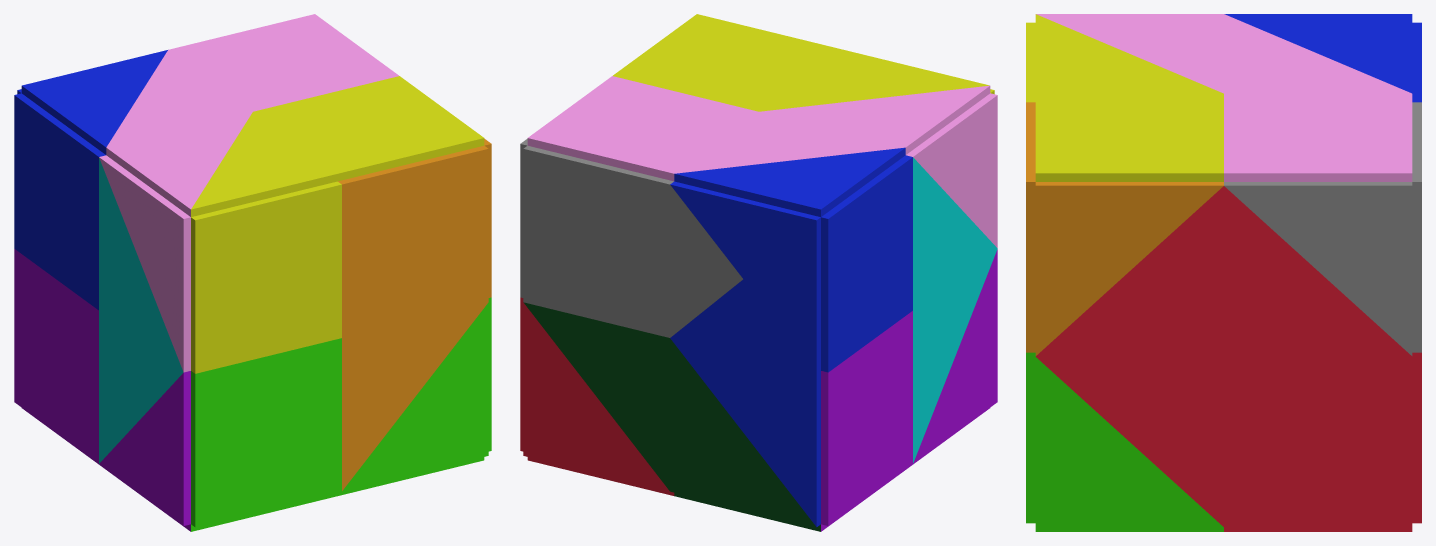
File: TamGram4.fbx
The picture shows the model from 3 angles, left to right: view 1: azimuth 30°, elevation 25°; view 2: azimuth 150°, elevation 25°; view 3: azimuth 270°, elevation 25°; orthographic projection. The views are drawn at different scales.
Visible parts, largest first — view 1: Cube.024, Cube.046, Cube.041, Cube.049, Cube.026, Cube.028, bleu clair, Cube.035, Cube.036, Cube.048, Cube.042, Cube.034 (+7 smaller); view 2: Cube.054, Cube.049, Cube.028, Cube.036, bleu clair, Cube.035, Cube.050, Cube.026, Cube.038, Cube.059, Cube.051, Cube.060 (+10 smaller); view 3: Cube.040, Cube.043, Cube.056, Cube.036, Cube.026, Cube.037, Cube.044, Cube.035, Cube.025, Cube.053, Cube.041, Cube.054 (+6 smaller).
Part boxes in pixels (x1=…): Cube.024: x1=191, y1=181, x2=341, y2=373; Cube.046: x1=191, y1=338, x2=341, y2=527; Cube.041: x1=338, y1=145, x2=488, y2=337; Cube.049: x1=14, y1=93, x2=105, y2=310; Cube.026: x1=253, y1=76, x2=484, y2=181; Cube.028: x1=14, y1=249, x2=98, y2=463; bleu clair: x1=99, y1=158, x2=183, y2=463; Cube.035: x1=106, y1=50, x2=252, y2=216; Cube.036: x1=168, y1=14, x2=398, y2=111; Cube.048: x1=342, y1=302, x2=488, y2=491; Cube.042: x1=342, y1=302, x2=488, y2=490; Cube.034: x1=99, y1=155, x2=190, y2=372; Cube.054: x1=523, y1=145, x2=673, y2=337; Cube.049: x1=821, y1=155, x2=912, y2=372; Cube.028: x1=821, y1=311, x2=912, y2=525; Cube.036: x1=527, y1=76, x2=758, y2=181; bleu clair: x1=913, y1=157, x2=997, y2=463; Cube.035: x1=675, y1=85, x2=990, y2=173; Cube.050: x1=670, y1=181, x2=820, y2=373; Cube.026: x1=613, y1=14, x2=843, y2=111; Cube.038: x1=523, y1=302, x2=669, y2=491; Cube.059: x1=670, y1=338, x2=816, y2=527; Cube.051: x1=670, y1=279, x2=816, y2=432; Cube.060: x1=523, y1=302, x2=669, y2=490; Cube.040: x1=1035, y1=186, x2=1412, y2=526; Cube.043: x1=1035, y1=182, x2=1223, y2=355; Cube.056: x1=1224, y1=182, x2=1412, y2=355; Cube.036: x1=1224, y1=93, x2=1412, y2=181; Cube.026: x1=1035, y1=93, x2=1223, y2=181; Cube.037: x1=1224, y1=357, x2=1412, y2=527; Cube.044: x1=1035, y1=357, x2=1223, y2=527; Cube.035: x1=1036, y1=14, x2=1411, y2=93; Cube.025: x1=1035, y1=14, x2=1223, y2=93; Cube.053: x1=1224, y1=14, x2=1412, y2=93; Cube.041: x1=1026, y1=102, x2=1035, y2=352; Cube.054: x1=1412, y1=102, x2=1421, y2=352.
Bounding box in the file's own units: 420 × 420 × 420.
